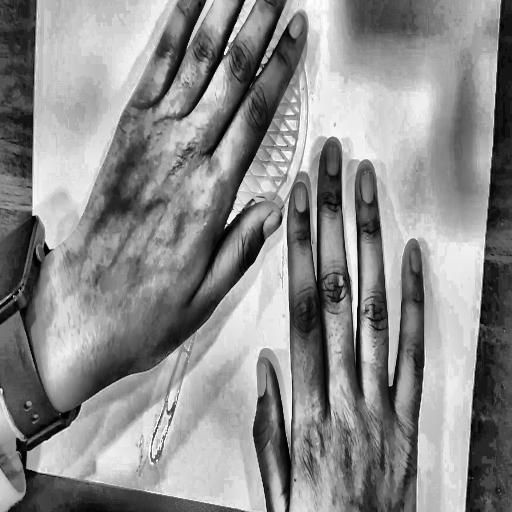badminton: (115, 0, 386, 512)
bottom_left: (19, 458, 28, 472)
